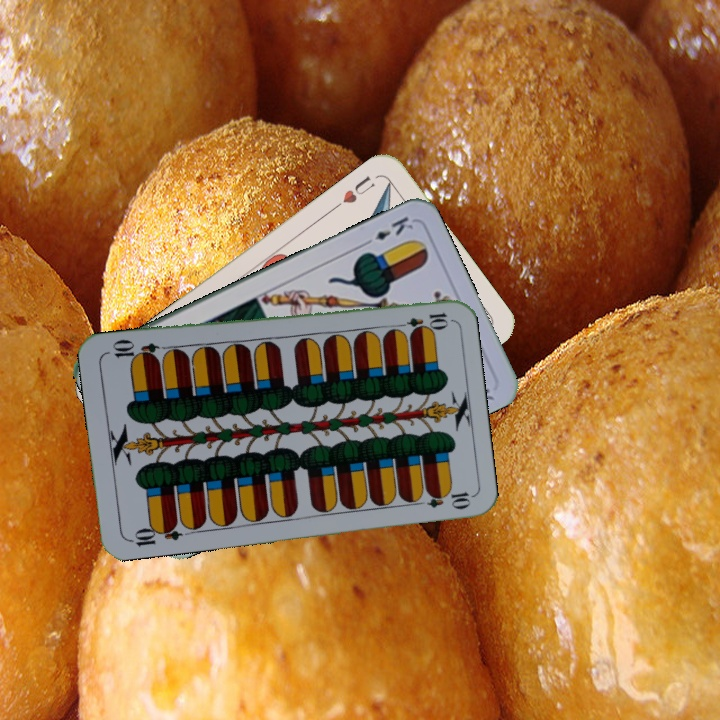E10: (125, 518, 184, 549), (391, 308, 451, 332)
EK: (359, 212, 416, 249)
HU: (329, 171, 378, 212)
